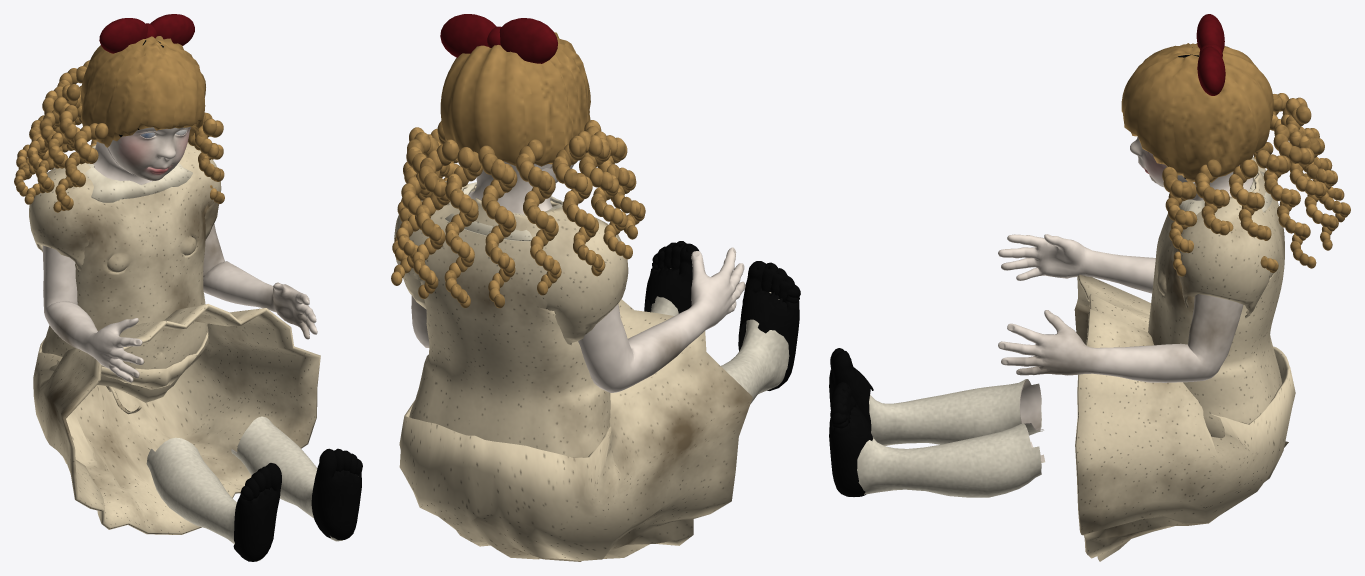
Rendered from vera_doll.glb.
3 views of the same model, side by side, from view 1: azimuth 30°, elevation 25°; view 2: azimuth 150°, elevation 25°; view 3: azimuth 270°, elevation 25° (orthographic). The views are drawn at different scales.
Visible parts, largest first — view 1: Skirt, DressTop, Head, Skin, Socks, Shoes, Collar; view 2: Skirt, Head, DressTop, Skin, Shoes, Socks, Collar; view 3: Skirt, Head, DressTop, Skin, Socks, Shoes.
Part boxes in pixels (x1=…): Skirt: x1=33, y1=304, x2=320, y2=534; DressTop: x1=29, y1=142, x2=221, y2=414; Head: x1=14, y1=14, x2=224, y2=212; Skin: x1=42, y1=141, x2=317, y2=453; Socks: x1=146, y1=416, x2=342, y2=561; Shoes: x1=233, y1=448, x2=362, y2=561; Collar: x1=85, y1=163, x2=192, y2=202; Skirt: x1=399, y1=299, x2=752, y2=561; Head: x1=391, y1=14, x2=645, y2=308; DressTop: x1=394, y1=181, x2=628, y2=469; Skin: x1=411, y1=161, x2=745, y2=392; Shoes: x1=644, y1=241, x2=800, y2=390; Socks: x1=650, y1=268, x2=789, y2=403; Collar: x1=445, y1=182, x2=562, y2=241; Skirt: x1=1074, y1=274, x2=1295, y2=561; Head: x1=1121, y1=14, x2=1350, y2=276; DressTop: x1=1148, y1=157, x2=1284, y2=438; Skin: x1=998, y1=165, x2=1252, y2=462; Socks: x1=857, y1=379, x2=1045, y2=497; Shoes: x1=829, y1=348, x2=873, y2=496.
Bounding box in the file's own units: 0.3571 × 0.6365 × 0.5734.
10 materials, 9 textured.
